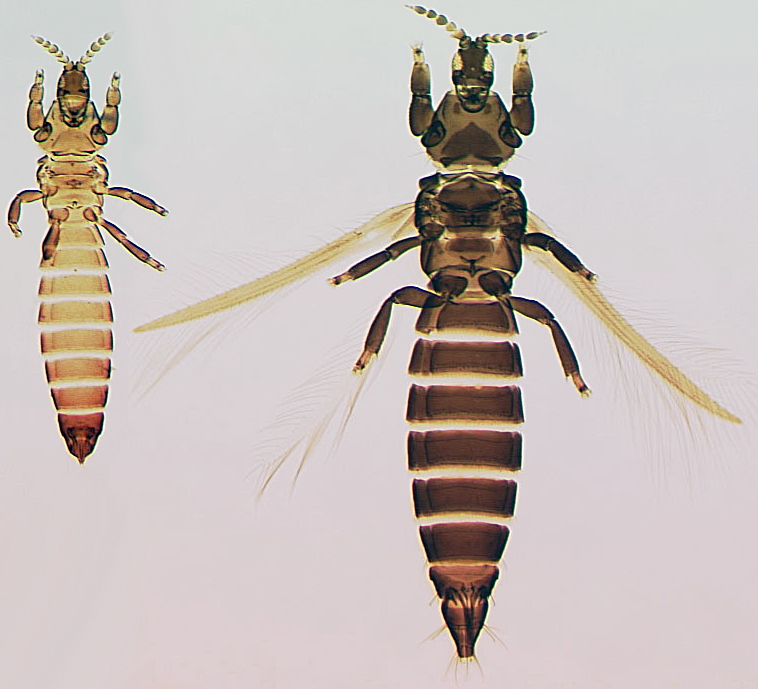Thripidae: (132, 1, 758, 667), (1, 29, 168, 476)
